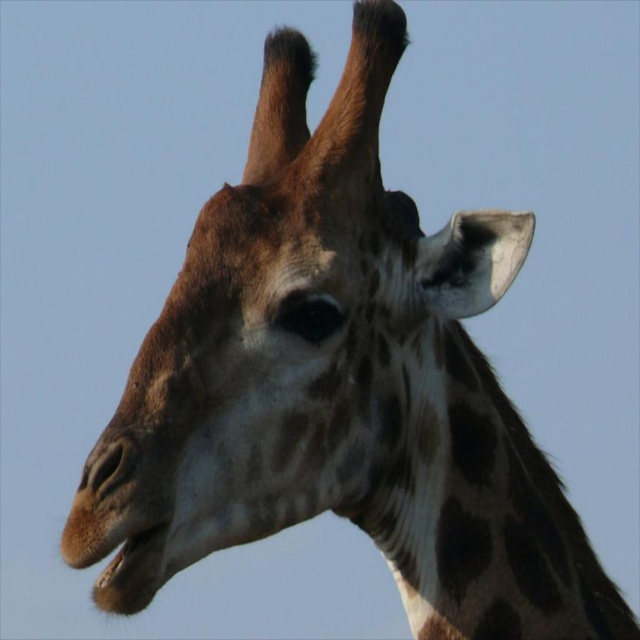Giraffe: (62, 0, 639, 639)
